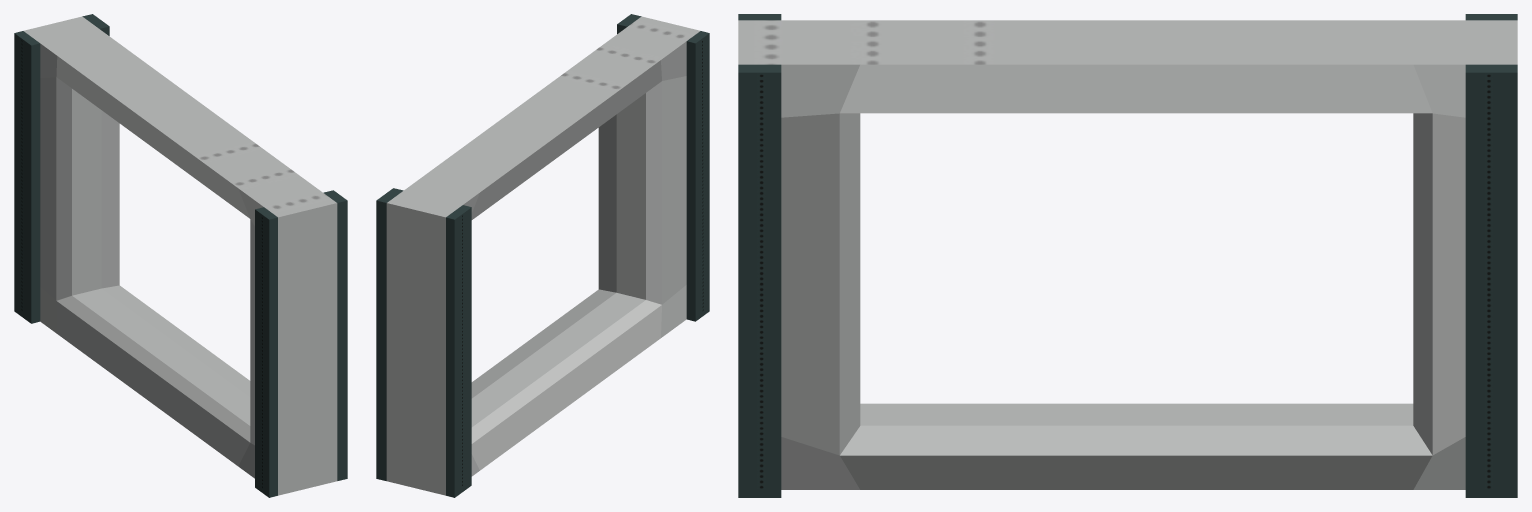
Rendered from New Wall With Window.fbx.
3 renders of one model, left to right at view 1: azimuth 30°, elevation 25°; view 2: azimuth 150°, elevation 25°; view 3: azimuth 270°, elevation 25°, orthographic. The views are drawn at different scales.
Visible parts, largest first — view 1: Wall; view 2: Wall; view 3: Wall.
Part boxes in pixels (box(x1,y1,x2,y2)): Wall: box(14, 14, 347, 497); Wall: box(376, 14, 709, 497); Wall: box(738, 14, 1517, 497).
Size of the model in its own units: 266 by 900 by 1494.
